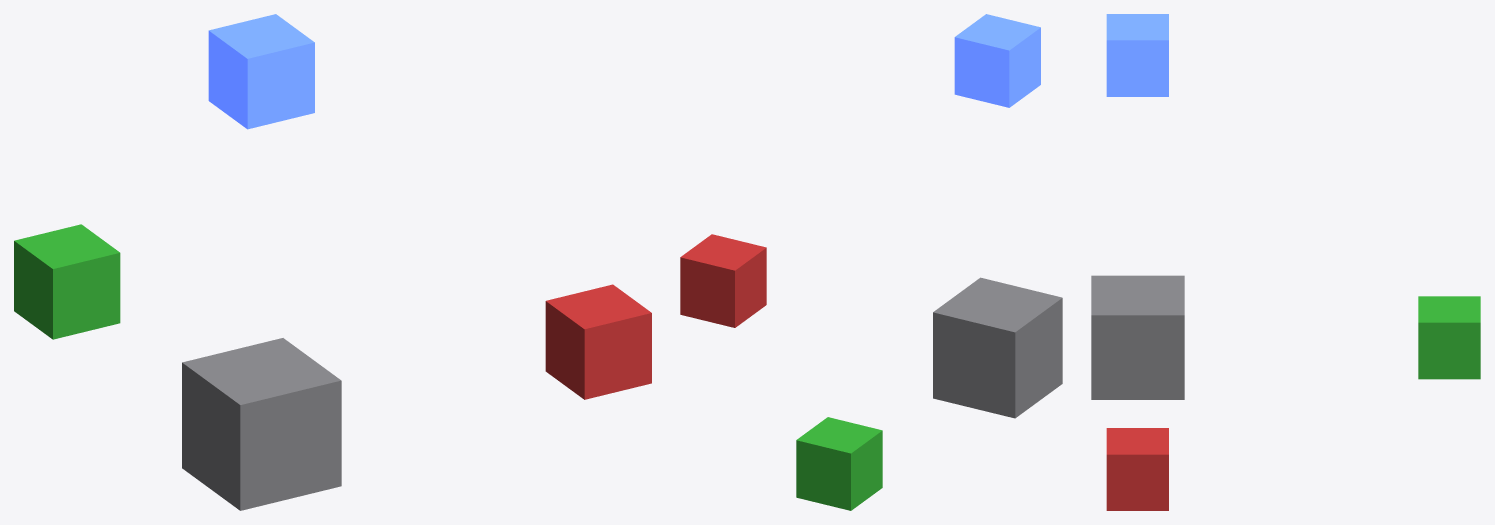
File: axis_probe.draco.glb
3 renders of one model, left to right at view 1: azimuth 30°, elevation 25°; view 2: azimuth 150°, elevation 25°; view 3: azimuth 270°, elevation 25°, orthographic. The views are drawn at different scales.
Visible parts, largest first — view 1: probe.core, marker.+X, marker.+Z, marker.+Y; view 2: probe.core, marker.+Z, marker.+X, marker.+Y; view 3: probe.core, marker.+Y, marker.+X, marker.+Z.
Part boxes in pixels (x1,y1,x2,y2): probe.core: (182, 338, 341, 510); marker.+X: (545, 284, 651, 399); marker.+Z: (208, 14, 314, 129); marker.+Y: (14, 224, 120, 339); probe.core: (933, 277, 1062, 418); marker.+Z: (954, 14, 1040, 107); marker.+X: (680, 234, 766, 327); marker.+Y: (796, 417, 882, 510); probe.core: (1091, 275, 1184, 399); marker.+Y: (1418, 296, 1480, 379); marker.+X: (1106, 428, 1168, 510); marker.+Z: (1106, 14, 1168, 96).
Size of the model in its own units: 1.25 by 1.25 by 1.25.
